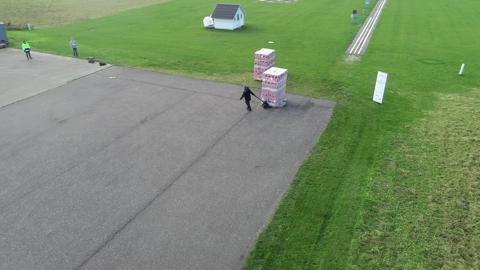RockwoolPallet: (253, 46, 277, 82)
